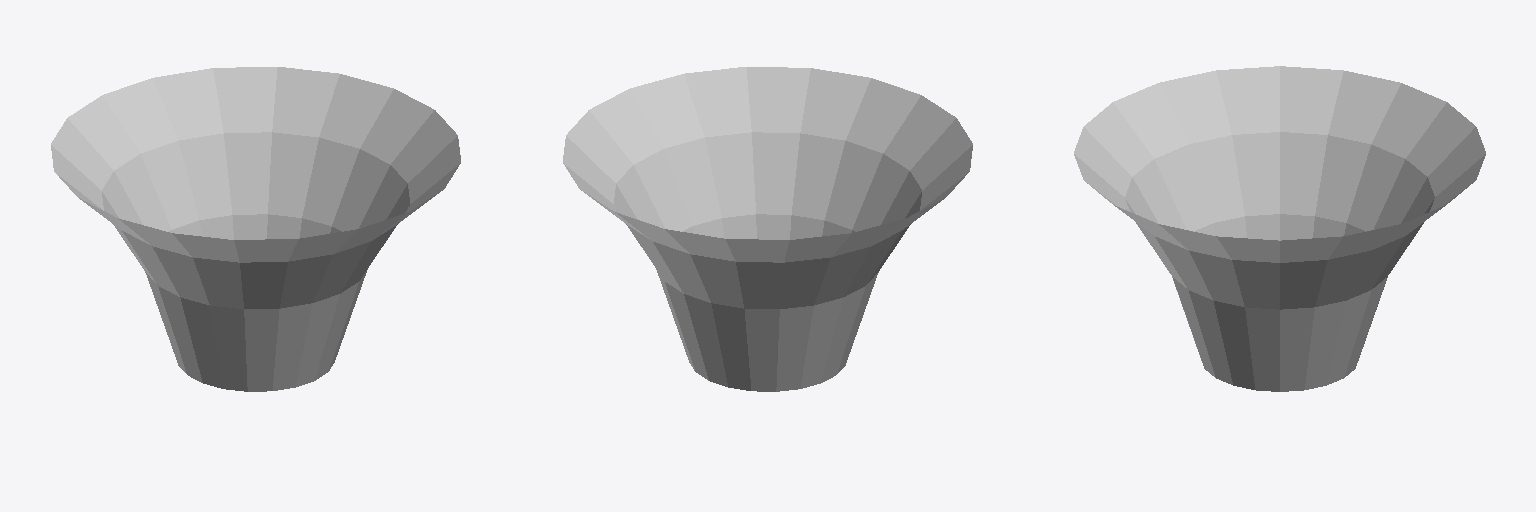
Rendered from ParticleFunnel.obj.
The picture shows the model from 3 angles: view 1: azimuth 30°, elevation 25°; view 2: azimuth 150°, elevation 25°; view 3: azimuth 270°, elevation 25°; orthographic projection.
Parts seen in each view (by area): view 1: ParticleFunnel; view 2: ParticleFunnel; view 3: ParticleFunnel.
Part boxes in pixels (x1,y1,x2,y2): ParticleFunnel: (51, 67, 460, 391); ParticleFunnel: (563, 67, 972, 391); ParticleFunnel: (1074, 66, 1485, 391).
Bounding box in the file's own units: 3.65 × 2 × 3.65.